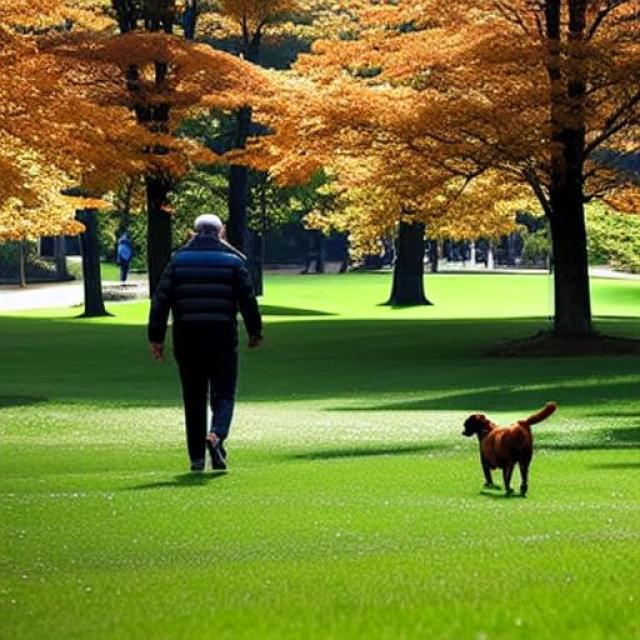Unleashed_Dog: (177, 332, 557, 497)
